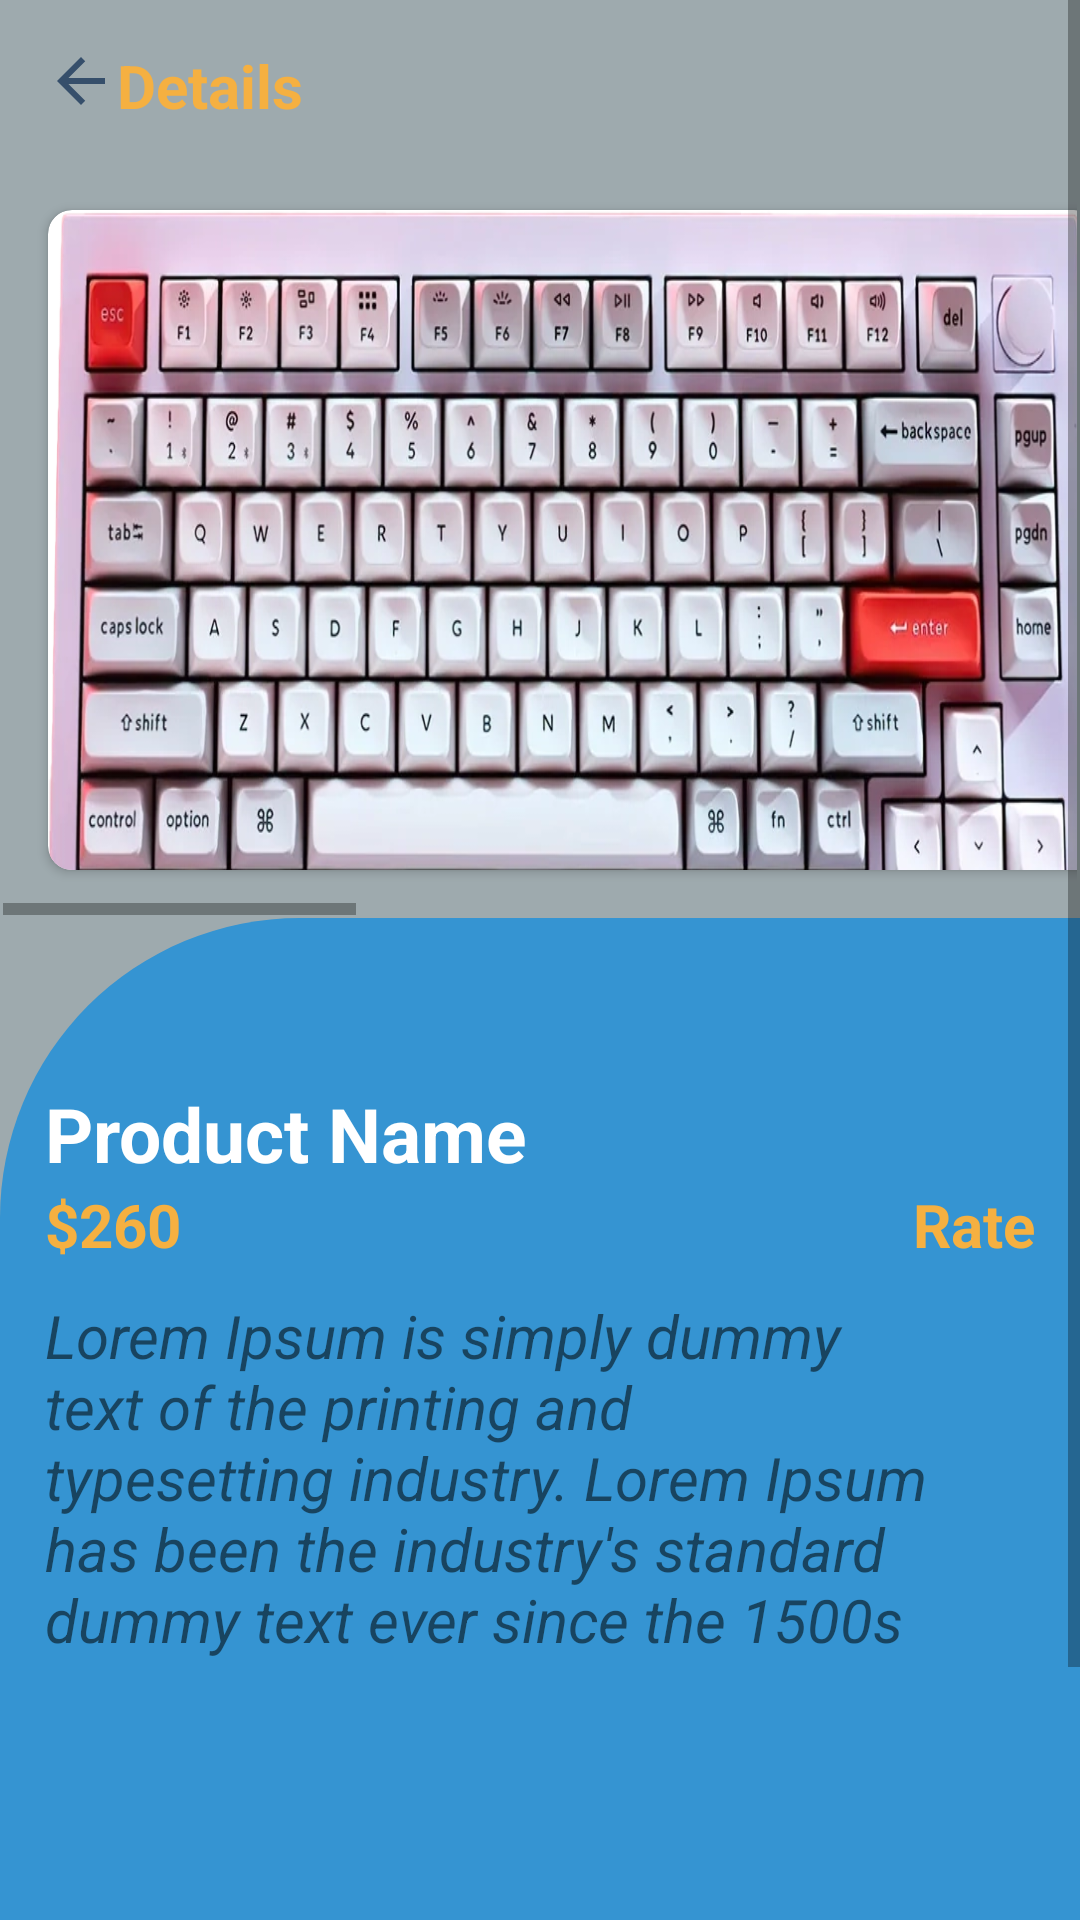

Icon click points for this 1080 x 1920 phone screenshot, format (x,y):
arrow back: (81,81)
